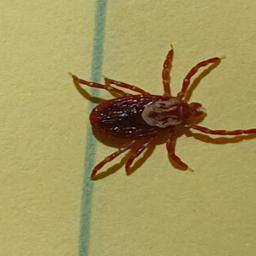Dermacentor variabilis: (69, 46, 239, 179)
